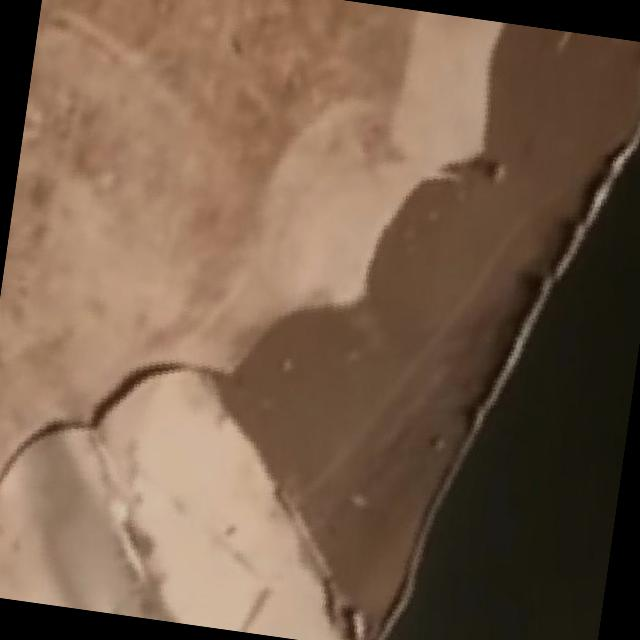crack: (0, 308, 219, 538)
